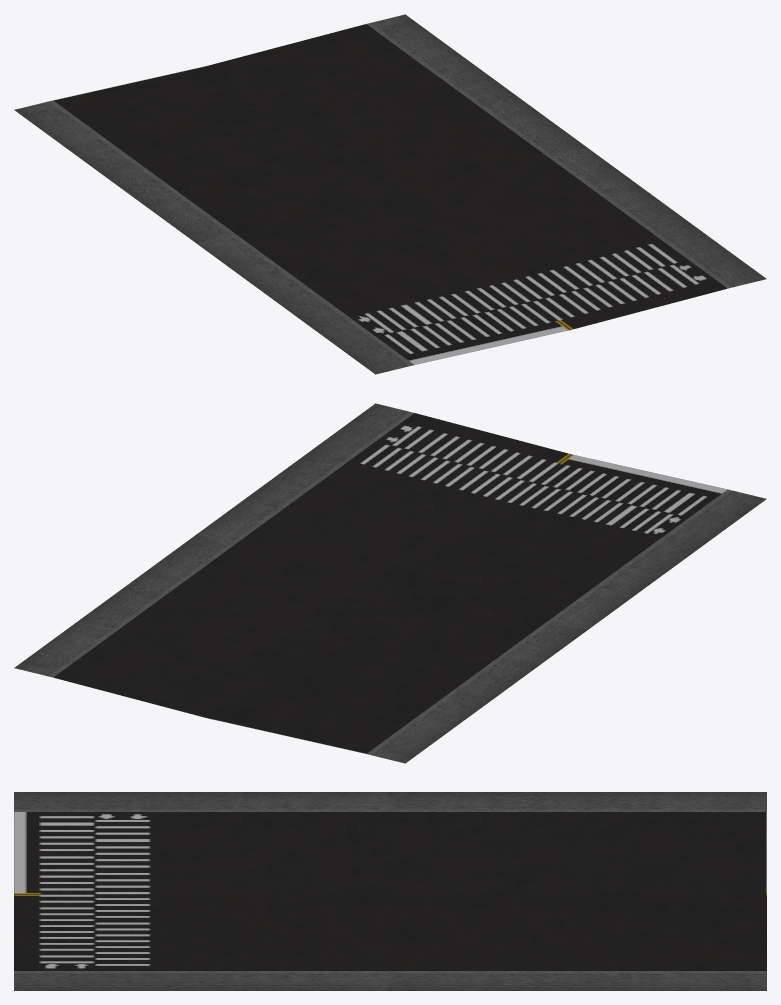
File: RJs_Road 4+4 Basic Node_lod.fbx
3 renders of one model, top to bottom at view 1: azimuth 30°, elevation 25°; view 2: azimuth 150°, elevation 25°; view 3: azimuth 270°, elevation 25°, orthographic. The views are drawn at different scales.
Parts seen in each view (by area): view 1: plane_lod; view 2: plane_lod; view 3: plane_lod.
Part boxes in pixels (box(x1,y1,x2,y2)): plane_lod: box(14, 14, 766, 374); plane_lod: box(14, 403, 766, 763); plane_lod: box(14, 792, 766, 990).
Size of the model in its own units: 4000 by 30.1 by 6400.
